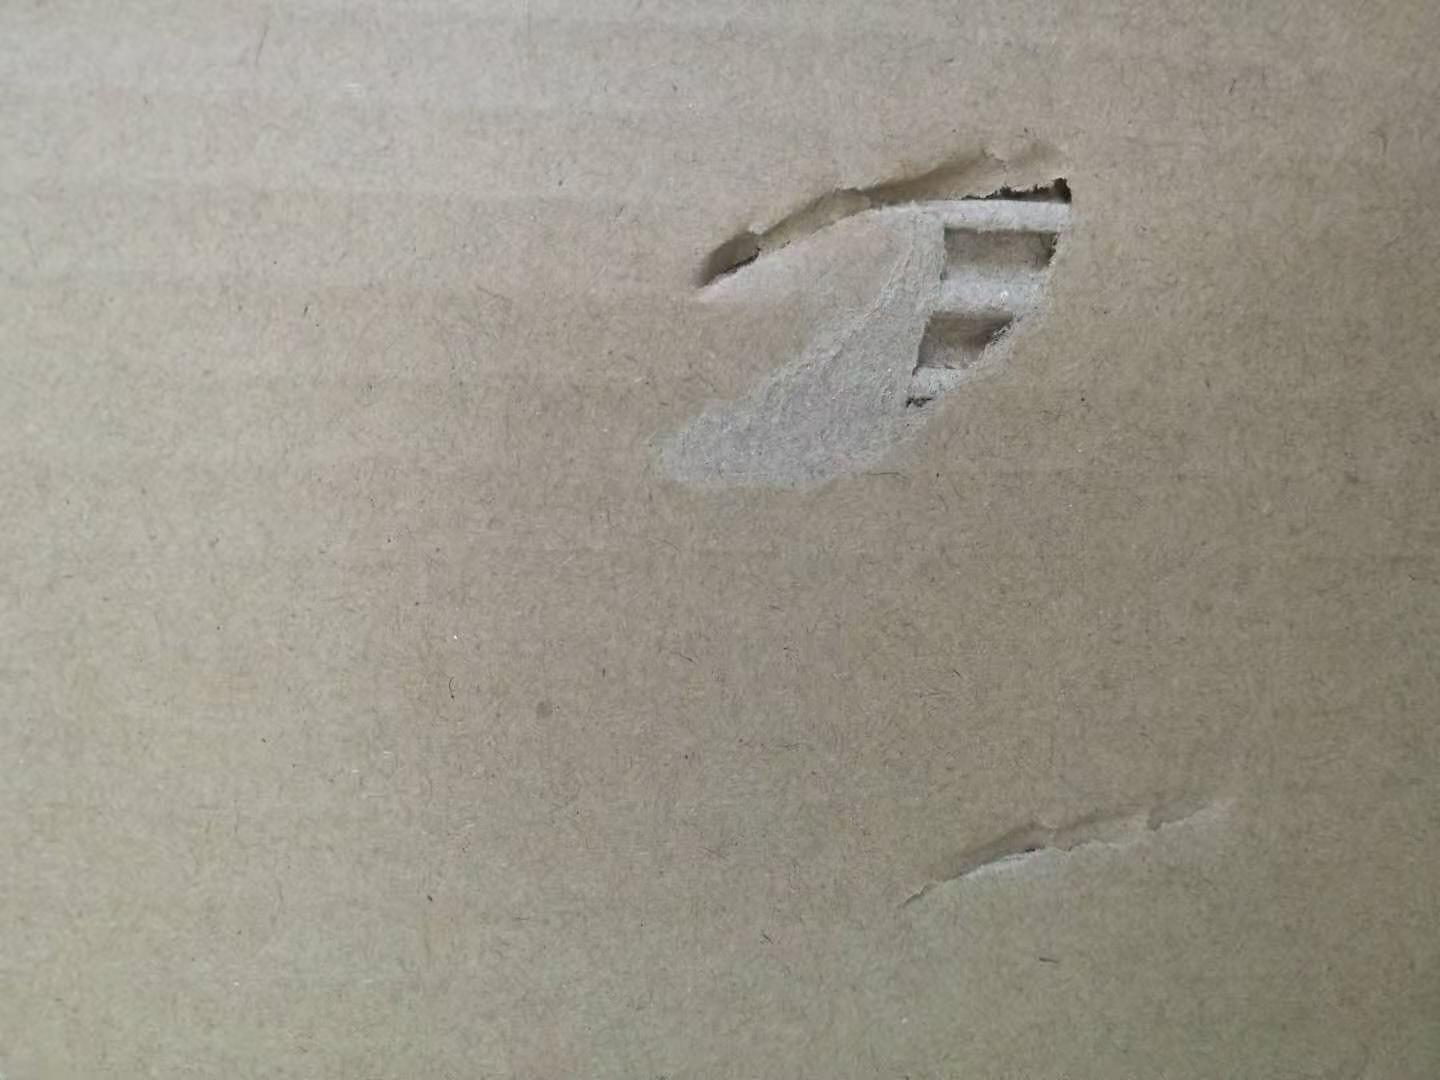defect: (603, 82, 1128, 521), (886, 748, 1278, 923)
